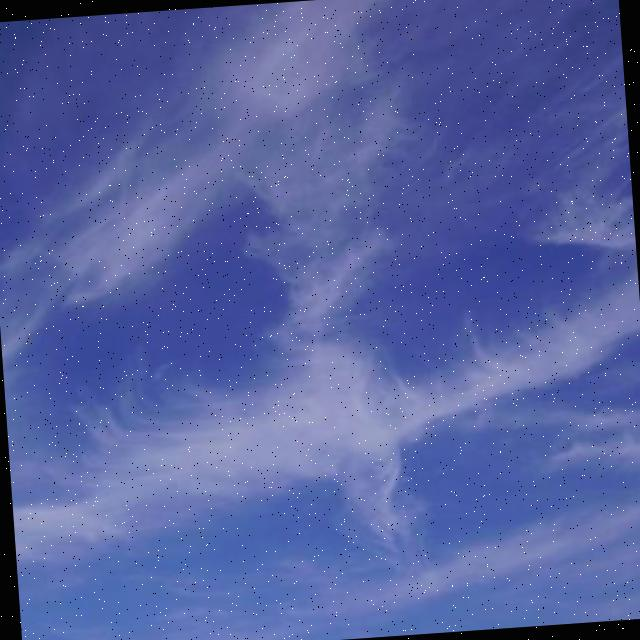Ci: (1, 1, 640, 624)
